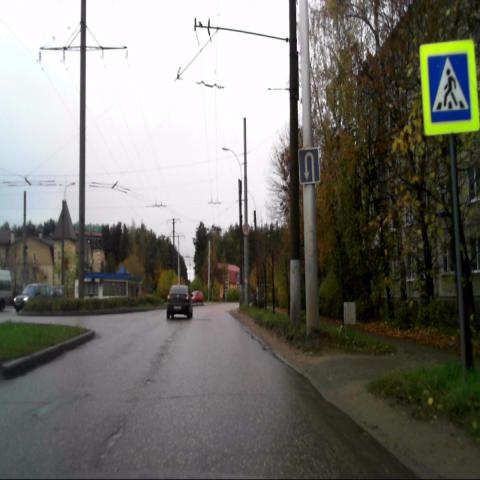6_3_1: (298, 147, 320, 184)
